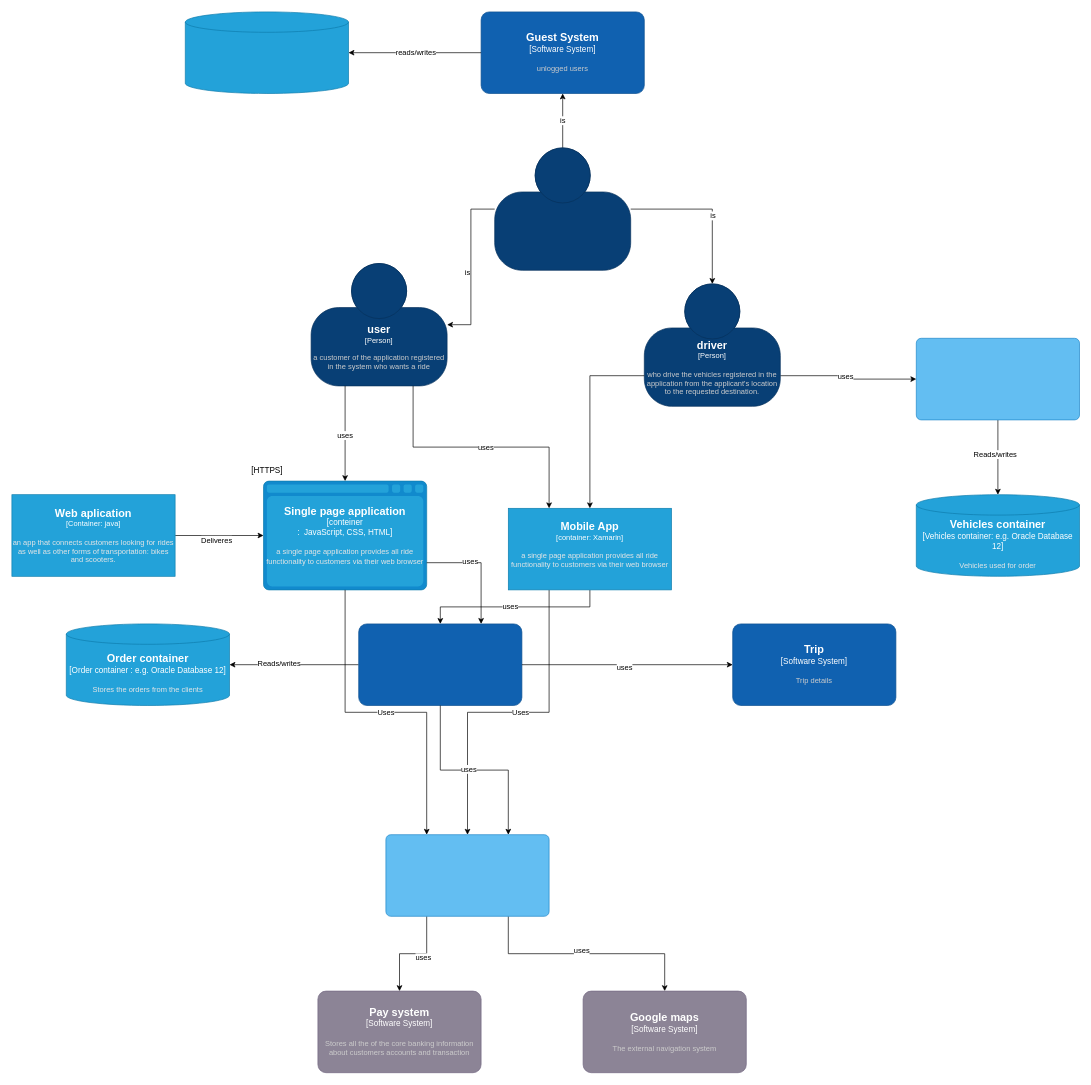
The diagram is 1091 pixels wide and 1085 high, and some of its shapes have lost their labels. The shapes that lost their labels are listed below. From the top down, each one's centre as x and y in pixels, then its label:
the point at 266,52: Users data [Users data : e.g. Oracle Database 12] Users data
the point at 562,208: Logged User [Person] People interacting with the app
the point at 998,379: Vehicle [Component: Transport Service] All transportation vehicles used
the point at 440,664: Order [Software System]
the point at 467,875: Api aplication [Component: Java and Spring Service] Provides all functionality
